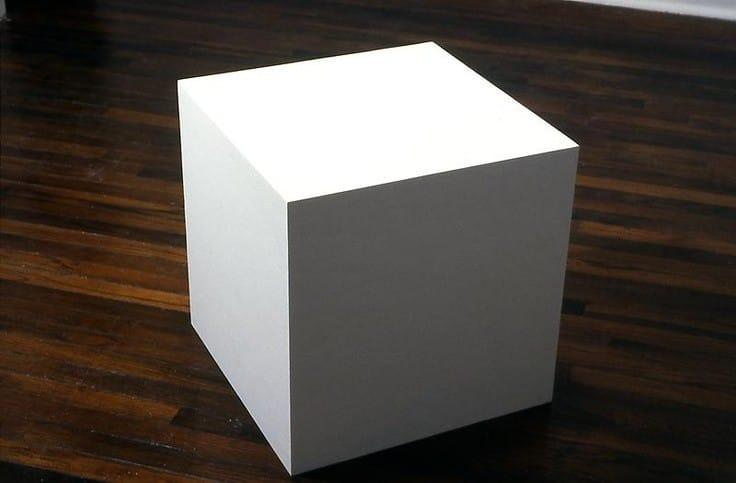cubos: (162, 31, 584, 483)
